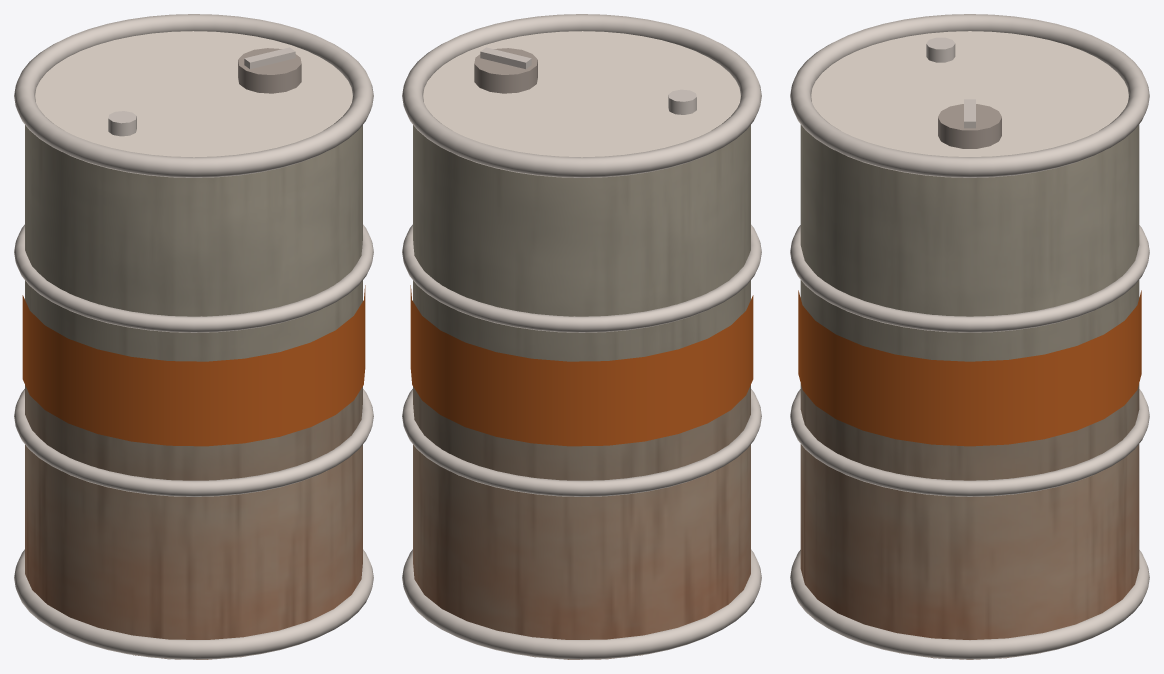
Rendered from D04_storage_drum.glb.
3 renders of one model, left to right at view 1: azimuth 30°, elevation 25°; view 2: azimuth 150°, elevation 25°; view 3: azimuth 270°, elevation 25°, orthographic.
Visible parts, largest first — view 1: drum, colour_band, lid, rim (×2), rolling_hoop (×2), screw_cap, vent_plug, cap_grip; view 2: drum, colour_band, lid, rim (×2), rolling_hoop (×2), screw_cap, vent_plug, cap_grip; view 3: drum, colour_band, lid, rim (×2), rolling_hoop (×2), screw_cap, vent_plug.
Part boxes in pixels (bbox=[...]): drum: bbox=[25, 125, 362, 639]; colour_band: bbox=[22, 285, 365, 446]; lid: bbox=[35, 31, 352, 157]; rim (×2): bbox=[14, 14, 373, 659]; rolling_hoop (×2): bbox=[14, 224, 373, 496]; screw_cap: bbox=[238, 48, 301, 93]; vent_plug: bbox=[108, 111, 136, 136]; cap_grip: bbox=[244, 47, 295, 69]; drum: bbox=[413, 125, 750, 639]; colour_band: bbox=[410, 285, 753, 446]; lid: bbox=[423, 31, 740, 157]; rim (×2): bbox=[402, 14, 761, 659]; rolling_hoop (×2): bbox=[402, 224, 761, 496]; screw_cap: bbox=[474, 48, 537, 93]; vent_plug: bbox=[668, 89, 696, 114]; cap_grip: bbox=[480, 47, 531, 69]; drum: bbox=[800, 124, 1139, 639]; colour_band: bbox=[798, 290, 1141, 446]; lid: bbox=[811, 31, 1128, 156]; rim (×2): bbox=[790, 14, 1149, 659]; rolling_hoop (×2): bbox=[790, 225, 1149, 496]; screw_cap: bbox=[938, 104, 1001, 148]; vent_plug: bbox=[926, 37, 955, 62].
Bounding box in the file's own units: 0.616 × 0.9775 × 0.616.
Materials: 6 (1 with a texture image).
